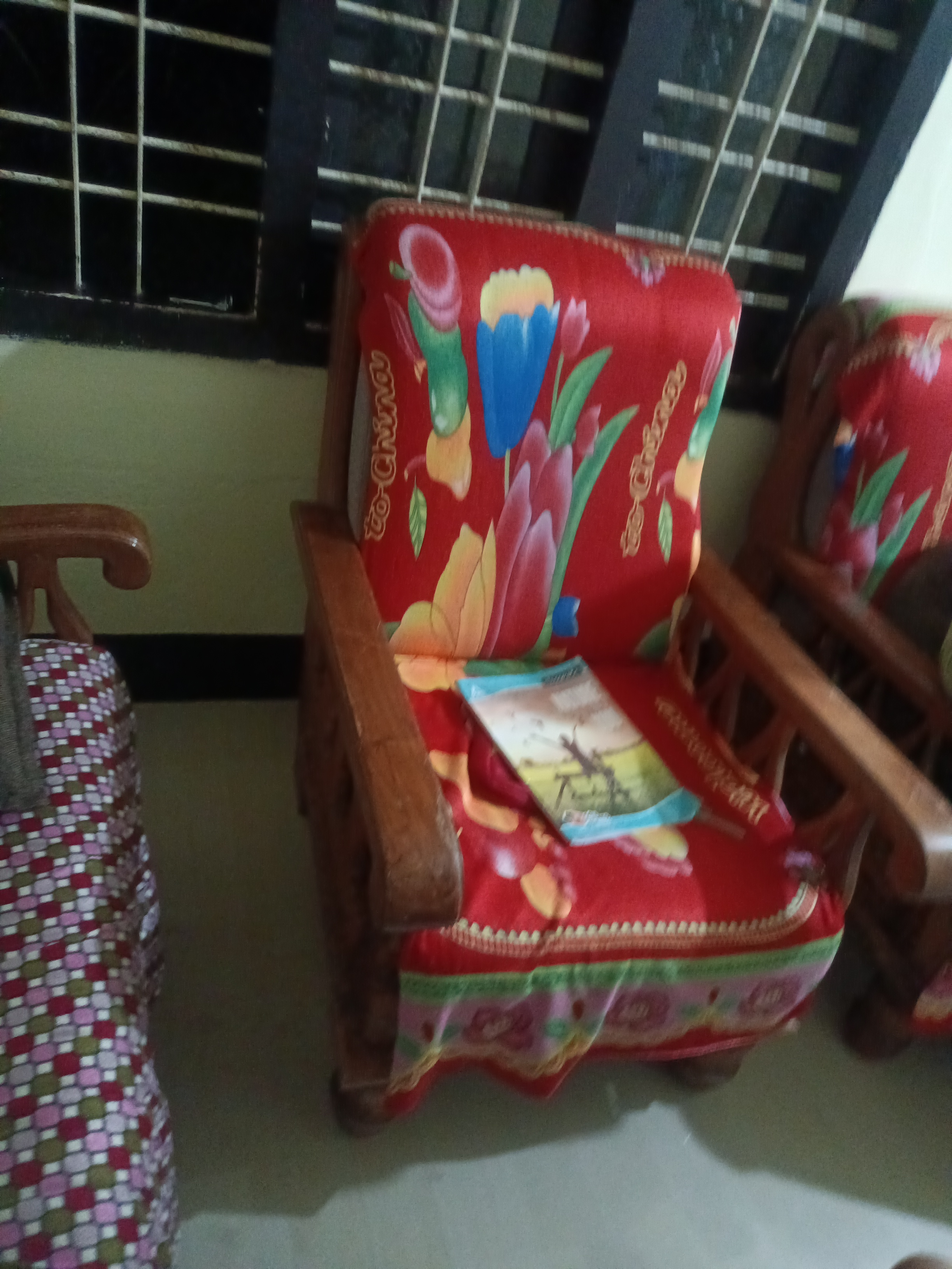sofa: (278, 201, 952, 1126)
